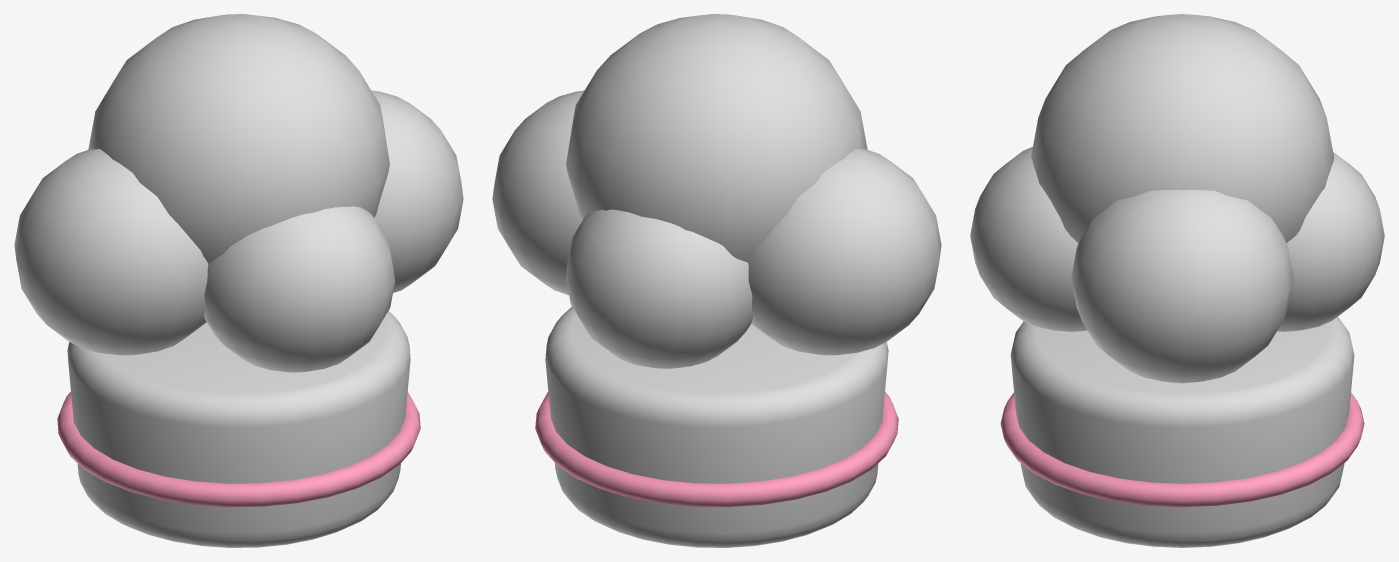
File: chefhat.glb
The picture shows the model from 3 angles, left to right: view 1: azimuth 30°, elevation 25°; view 2: azimuth 150°, elevation 25°; view 3: azimuth 270°, elevation 25°; orthographic projection.
Parts seen in each view (by area): view 1: cffffff, stripe; view 2: cffffff, stripe; view 3: cffffff, stripe.
Part boxes in pixels (left/top/right/bottom): cffffff: left=14, top=14, right=463, bottom=547; stripe: left=57, top=391, right=420, bottom=507; cffffff: left=492, top=14, right=941, bottom=547; stripe: left=535, top=391, right=898, bottom=507; cffffff: left=970, top=14, right=1384, bottom=547; stripe: left=1000, top=392, right=1364, bottom=507.
Size of the model in its own units: 0.96 by 1 by 0.82.
